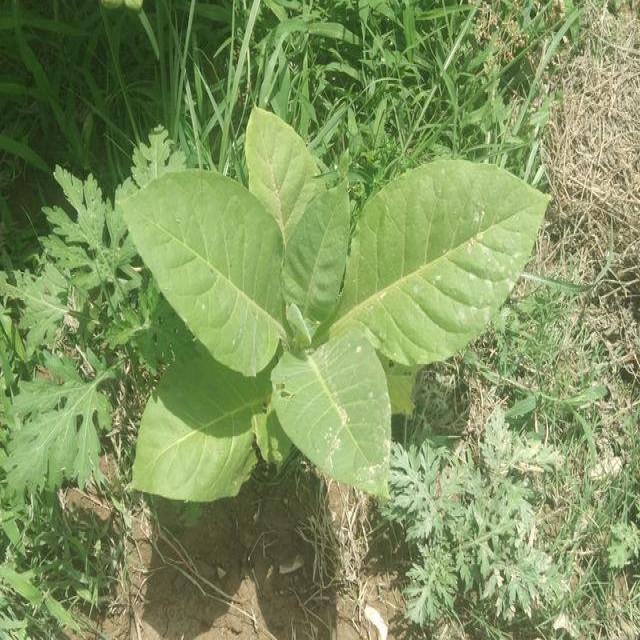crop: (109, 95, 545, 511)
